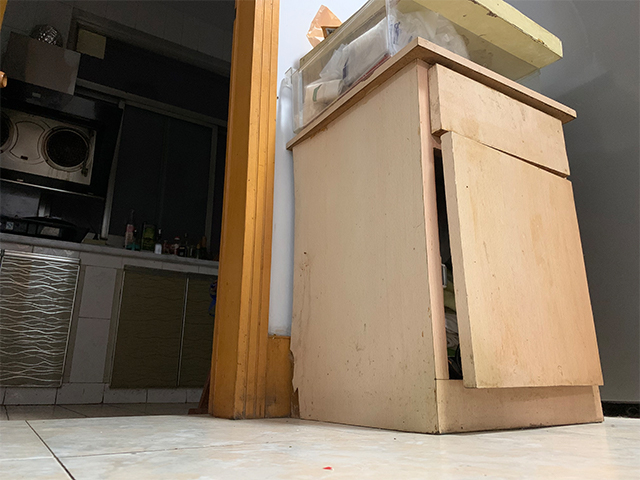cabinet: (285, 36, 606, 438), (16, 238, 202, 406)
